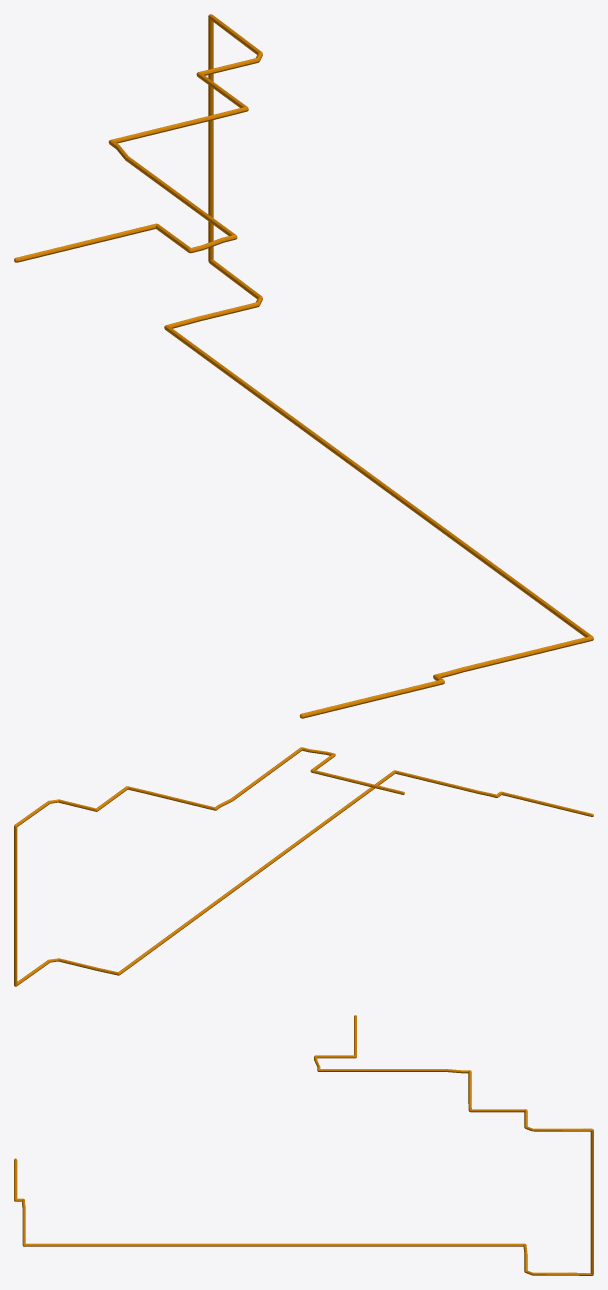
3 renders of one model, top to bottom at view 1: azimuth 30°, elevation 25°; view 2: azimuth 150°, elevation 25°; view 3: azimuth 270°, elevation 25°, orthographic. The views are drawn at different scales.
Size of the model in its own units: 1723 by 1020 by 3648.
